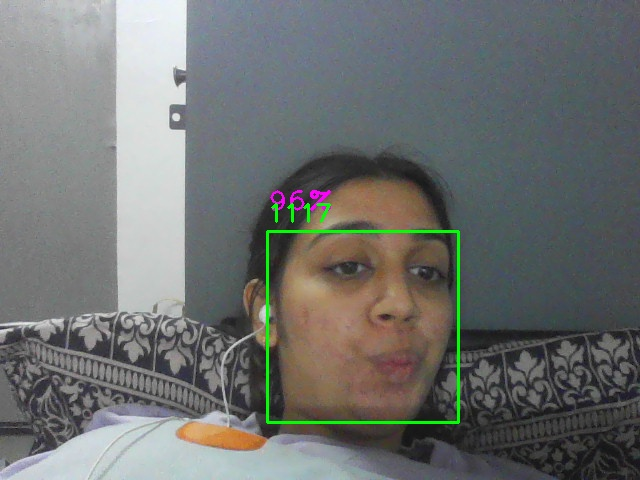real: (267, 231, 459, 423)
